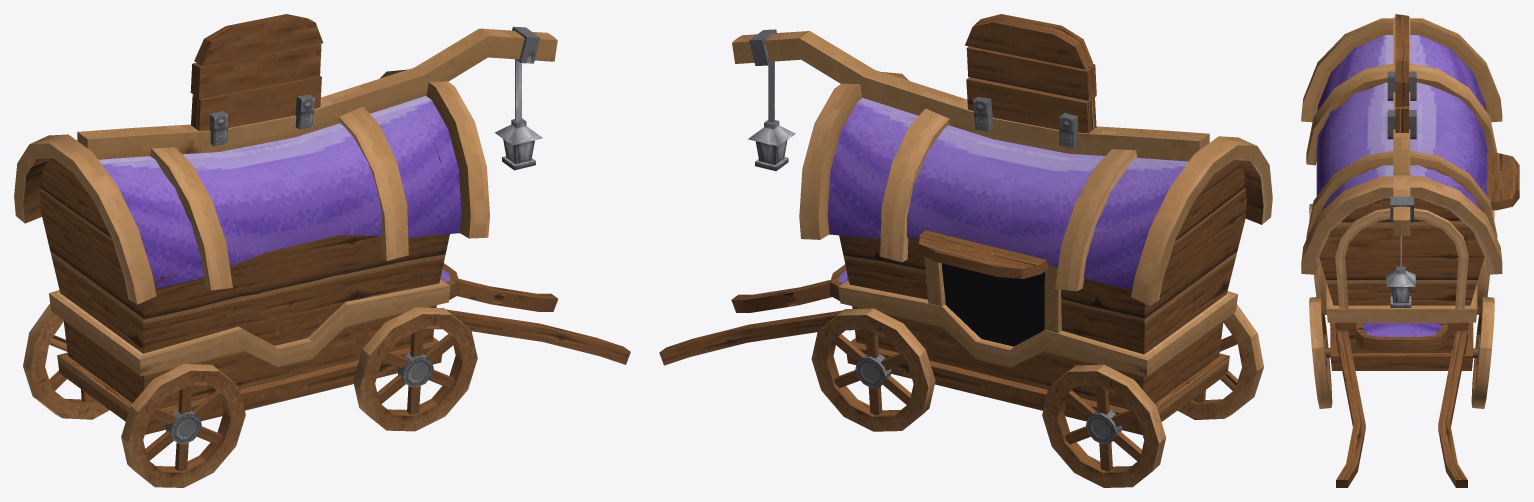
File: Carriage.fbx
3 renders of one model, left to right at view 1: azimuth 30°, elevation 25°; view 2: azimuth 150°, elevation 25°; view 3: azimuth 270°, elevation 25°, orthographic. The views are drawn at different scales.
Parts seen in each view (by area): view 1: Cylinder.014; view 2: Cylinder.014; view 3: Cylinder.014.
Boxes of the visible parts, x1=… form: Cylinder.014: x1=14, y1=14, x2=630, y2=487; Cylinder.014: x1=659, y1=14, x2=1272, y2=487; Cylinder.014: x1=1301, y1=14, x2=1519, y2=487.
Bounding box in the file's own units: 653 × 474 × 281.
